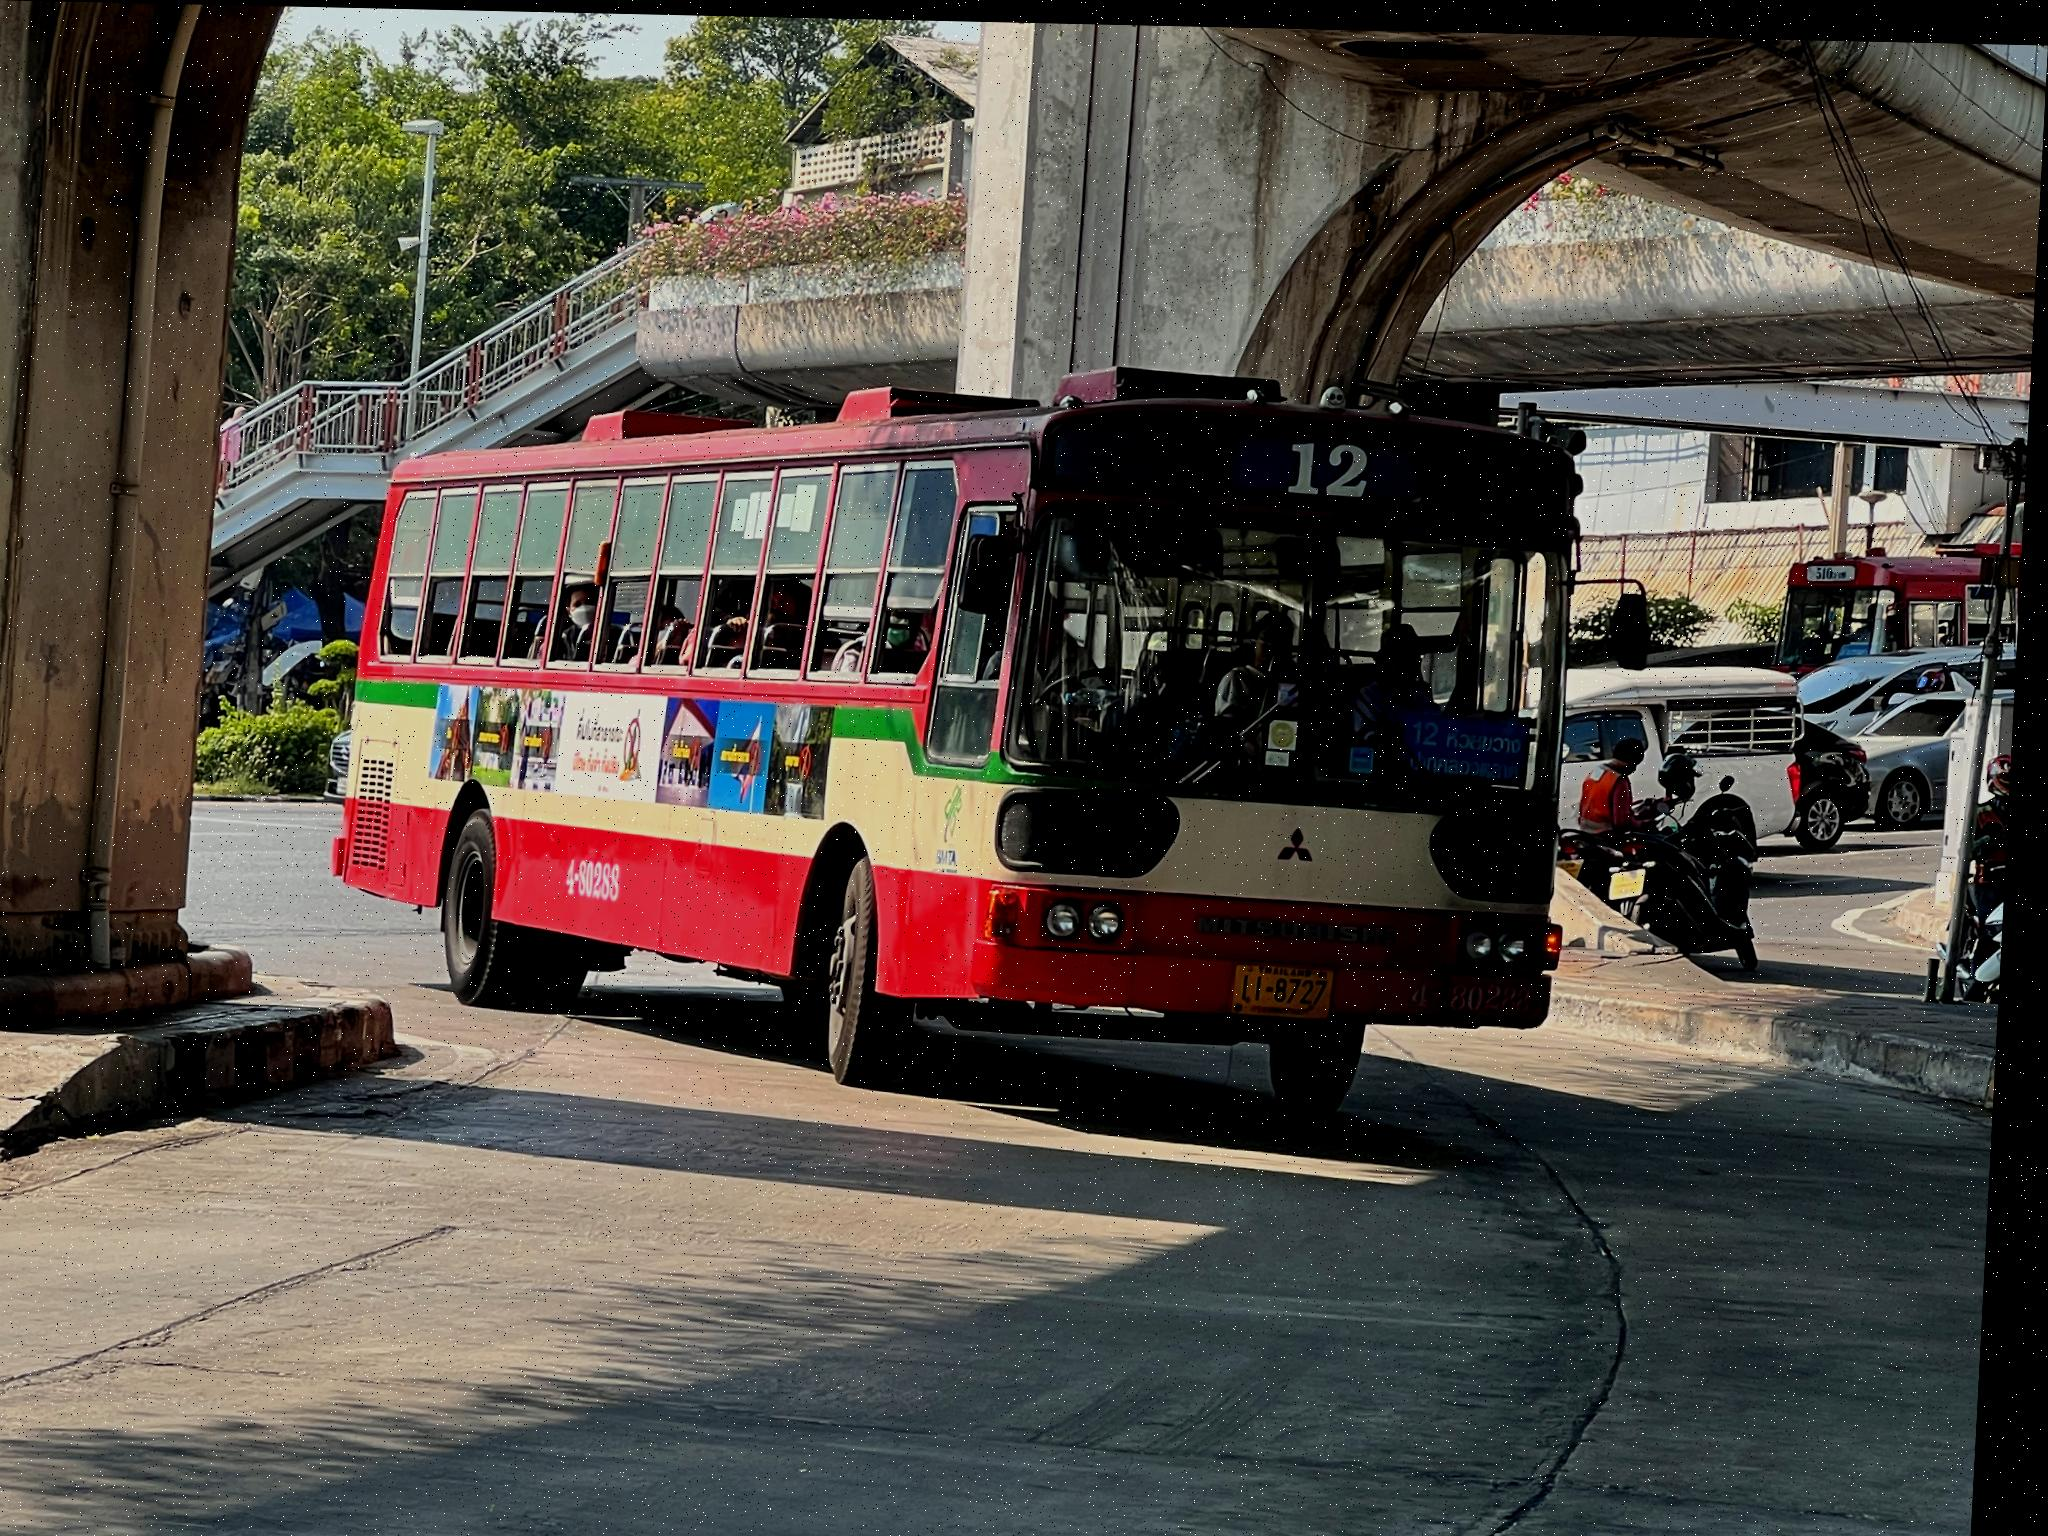BMTA-bus: (340, 366, 1590, 1117)
Bus Line Number: (1224, 424, 1443, 503)
Bus Side Number: (1409, 962, 1550, 1015)
Destination Sign: (1408, 705, 1546, 778)
